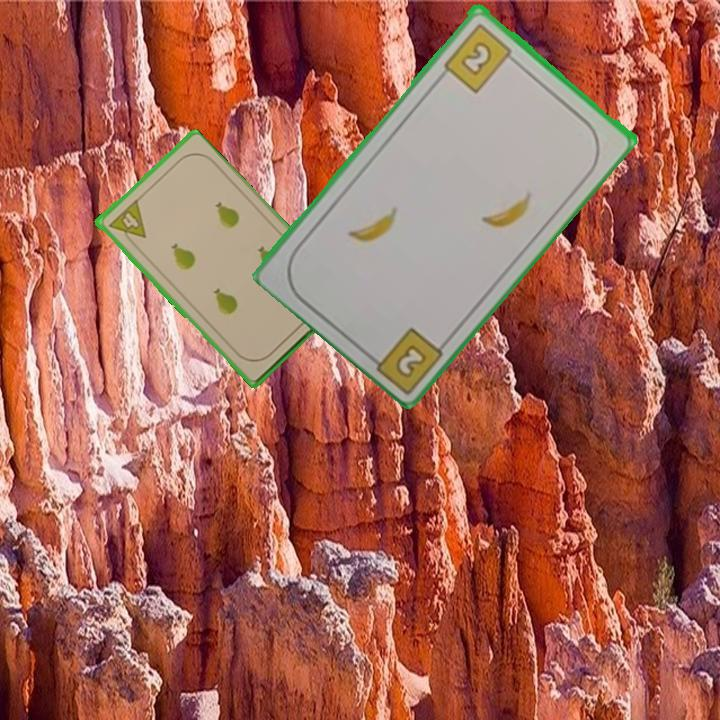2b: (440, 19, 521, 95), (391, 340, 430, 381)
4p: (104, 197, 149, 249)
